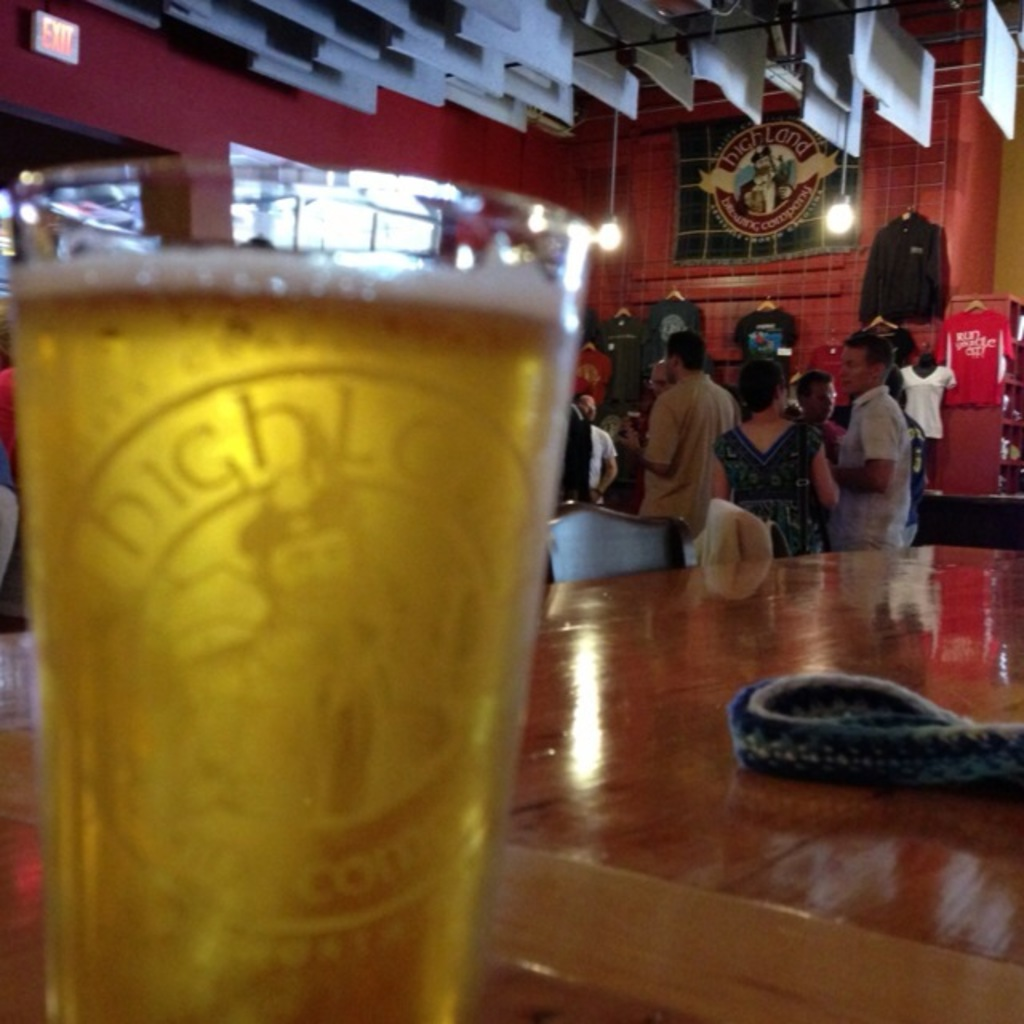Beer: (0, 243, 582, 1022)
